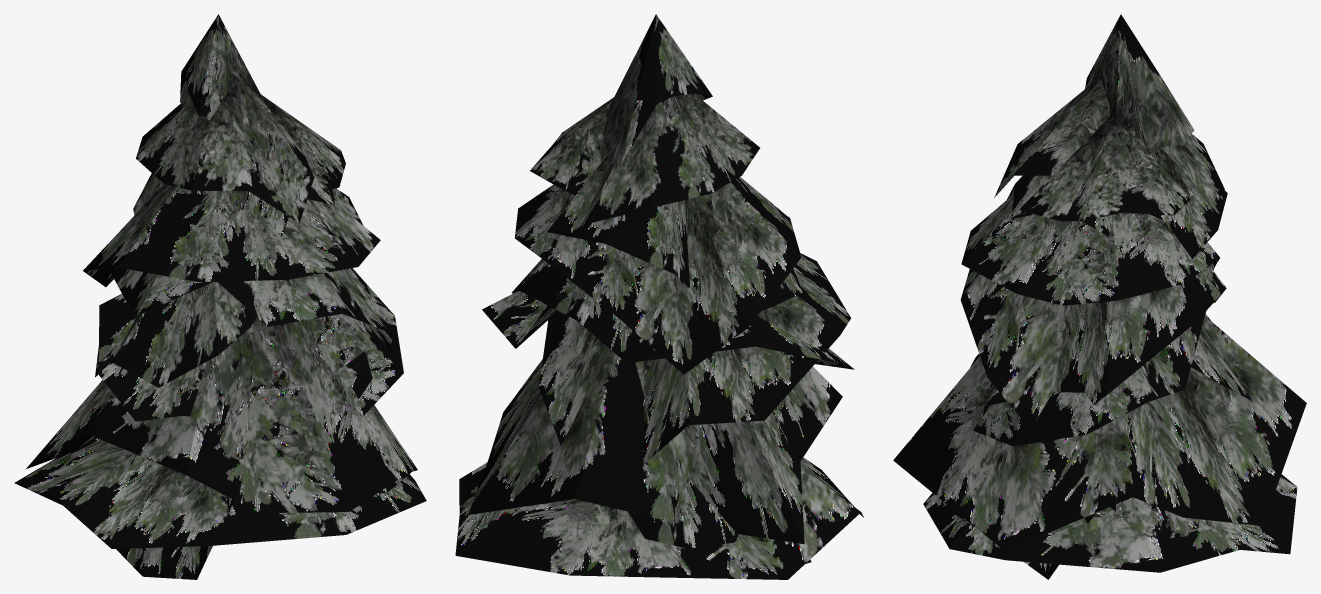
The model's file is shrub.obj.
3 views of the same model, side by side, from view 1: azimuth 30°, elevation 25°; view 2: azimuth 150°, elevation 25°; view 3: azimuth 270°, elevation 25° (orthographic). The views are drawn at different scales.
Visible parts, largest first — view 1: SnowBranchCircle; view 2: SnowBranchCircle; view 3: SnowBranchCircle.
Part boxes in pixels (<box>): SnowBranchCircle: <box>14,14,426,579</box>; SnowBranchCircle: <box>455,14,863,579</box>; SnowBranchCircle: <box>893,14,1306,579</box>.
Size of the model in its own units: 0.0901 by 0.13 by 0.0925.
Materials: 1 (1 with a texture image).
